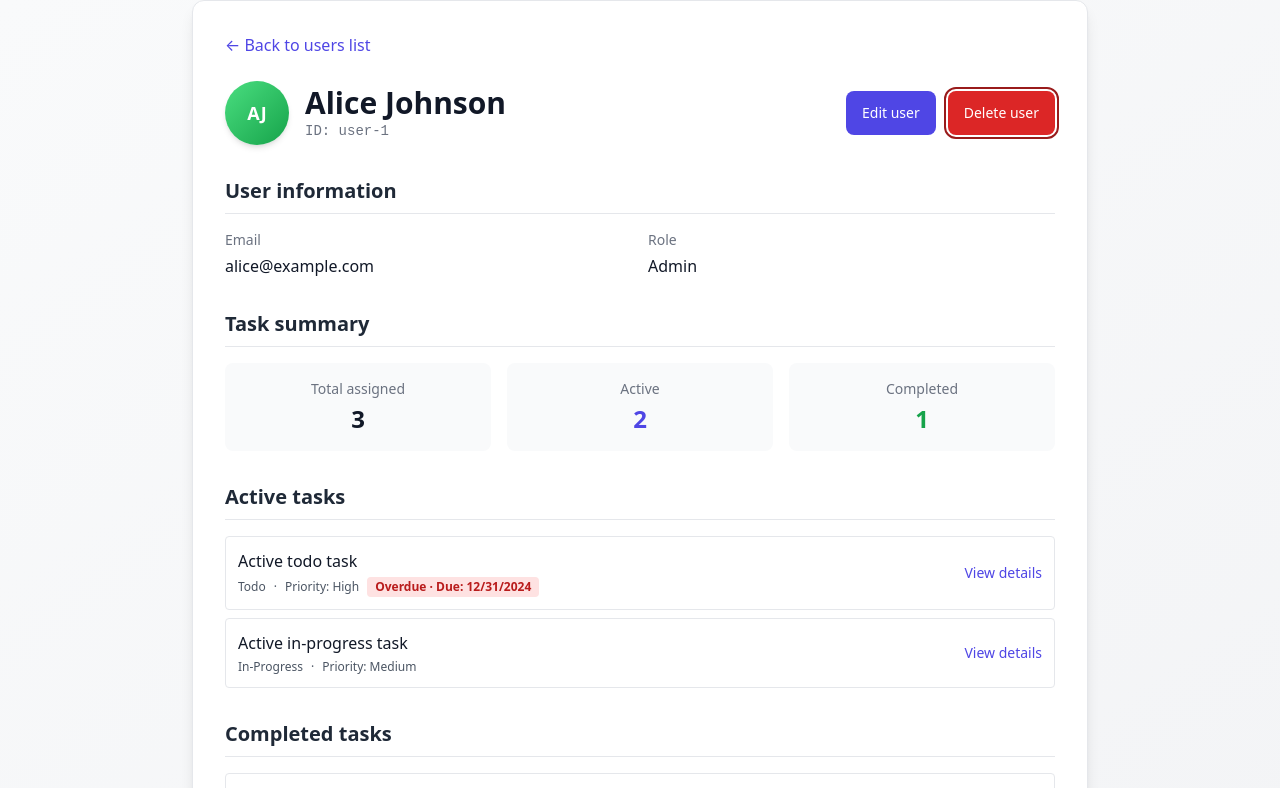
Test: UserDetails › delete flow › opens and cancels the delete confirmation dialog
The width and height of the screenshot is (1280, 788).
Expected: the heading "Alice Johnson" is shown, [305,85,506,121]
Click the button with aria-label "Delete user: Alice Johnson".
click(1001, 113)  # box [948,91,1055,135]
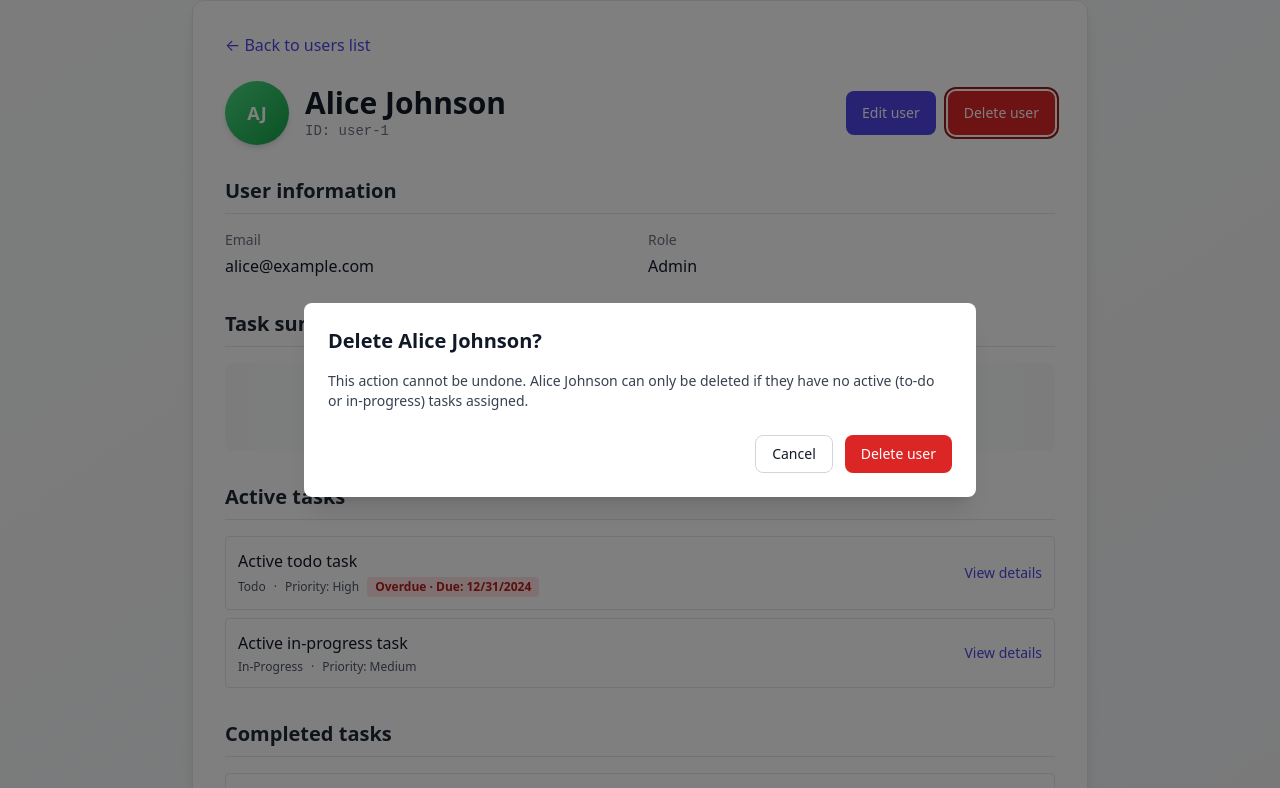
Now the text "cannot be undone" is shown, box [328,371,530,390]
Now the text "no active" is shown, box [328,371,934,410]
Click the button "Cancel".
click(794, 454)  # box [755,435,833,473]
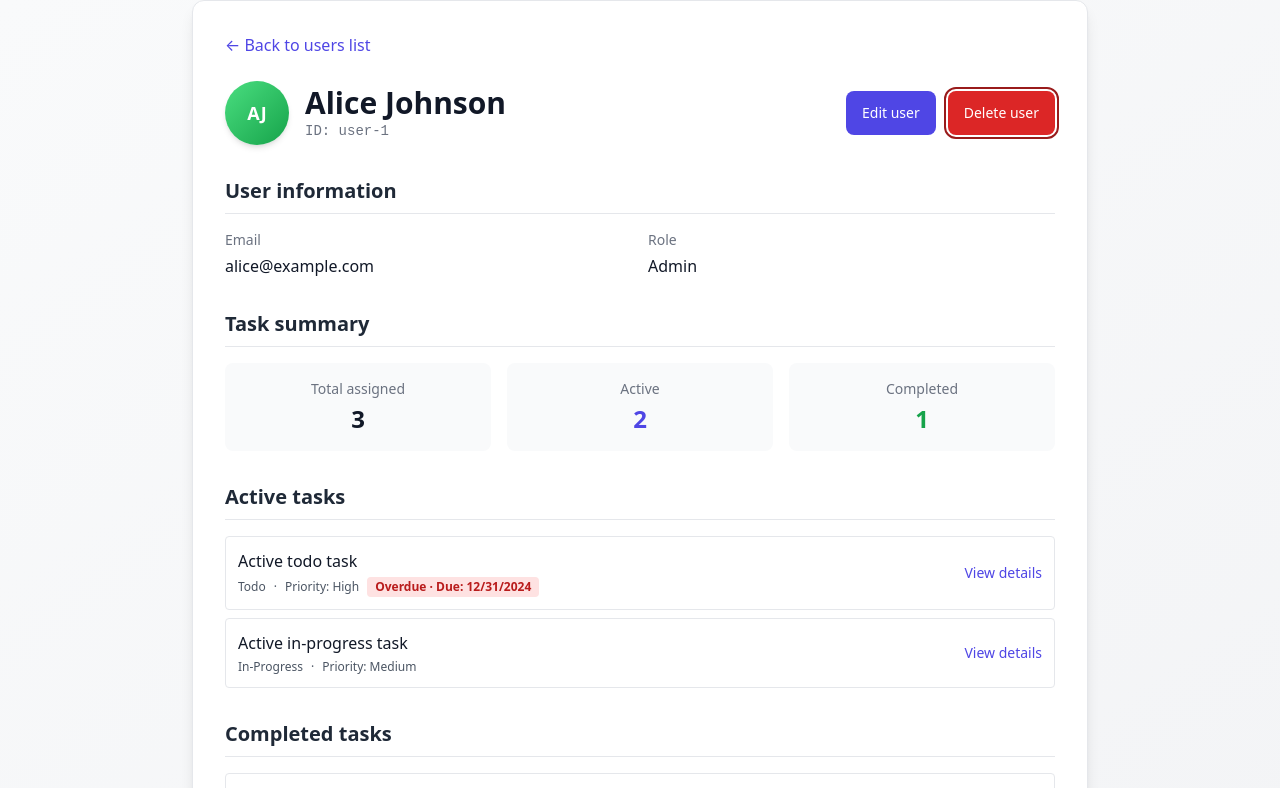
Now the dialog is gone
